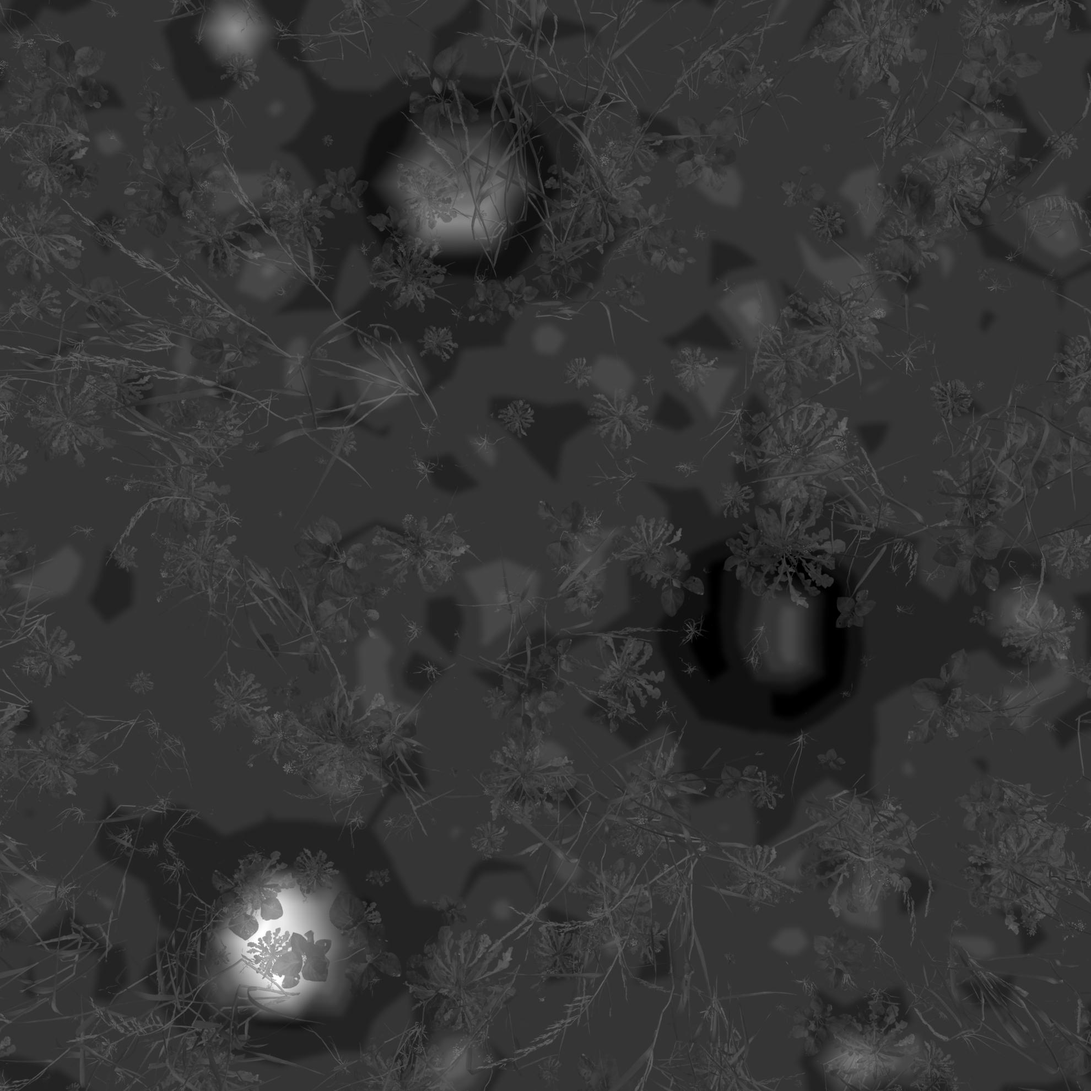landmine: (373, 100, 548, 265), (206, 868, 362, 1031), (711, 560, 844, 696)
